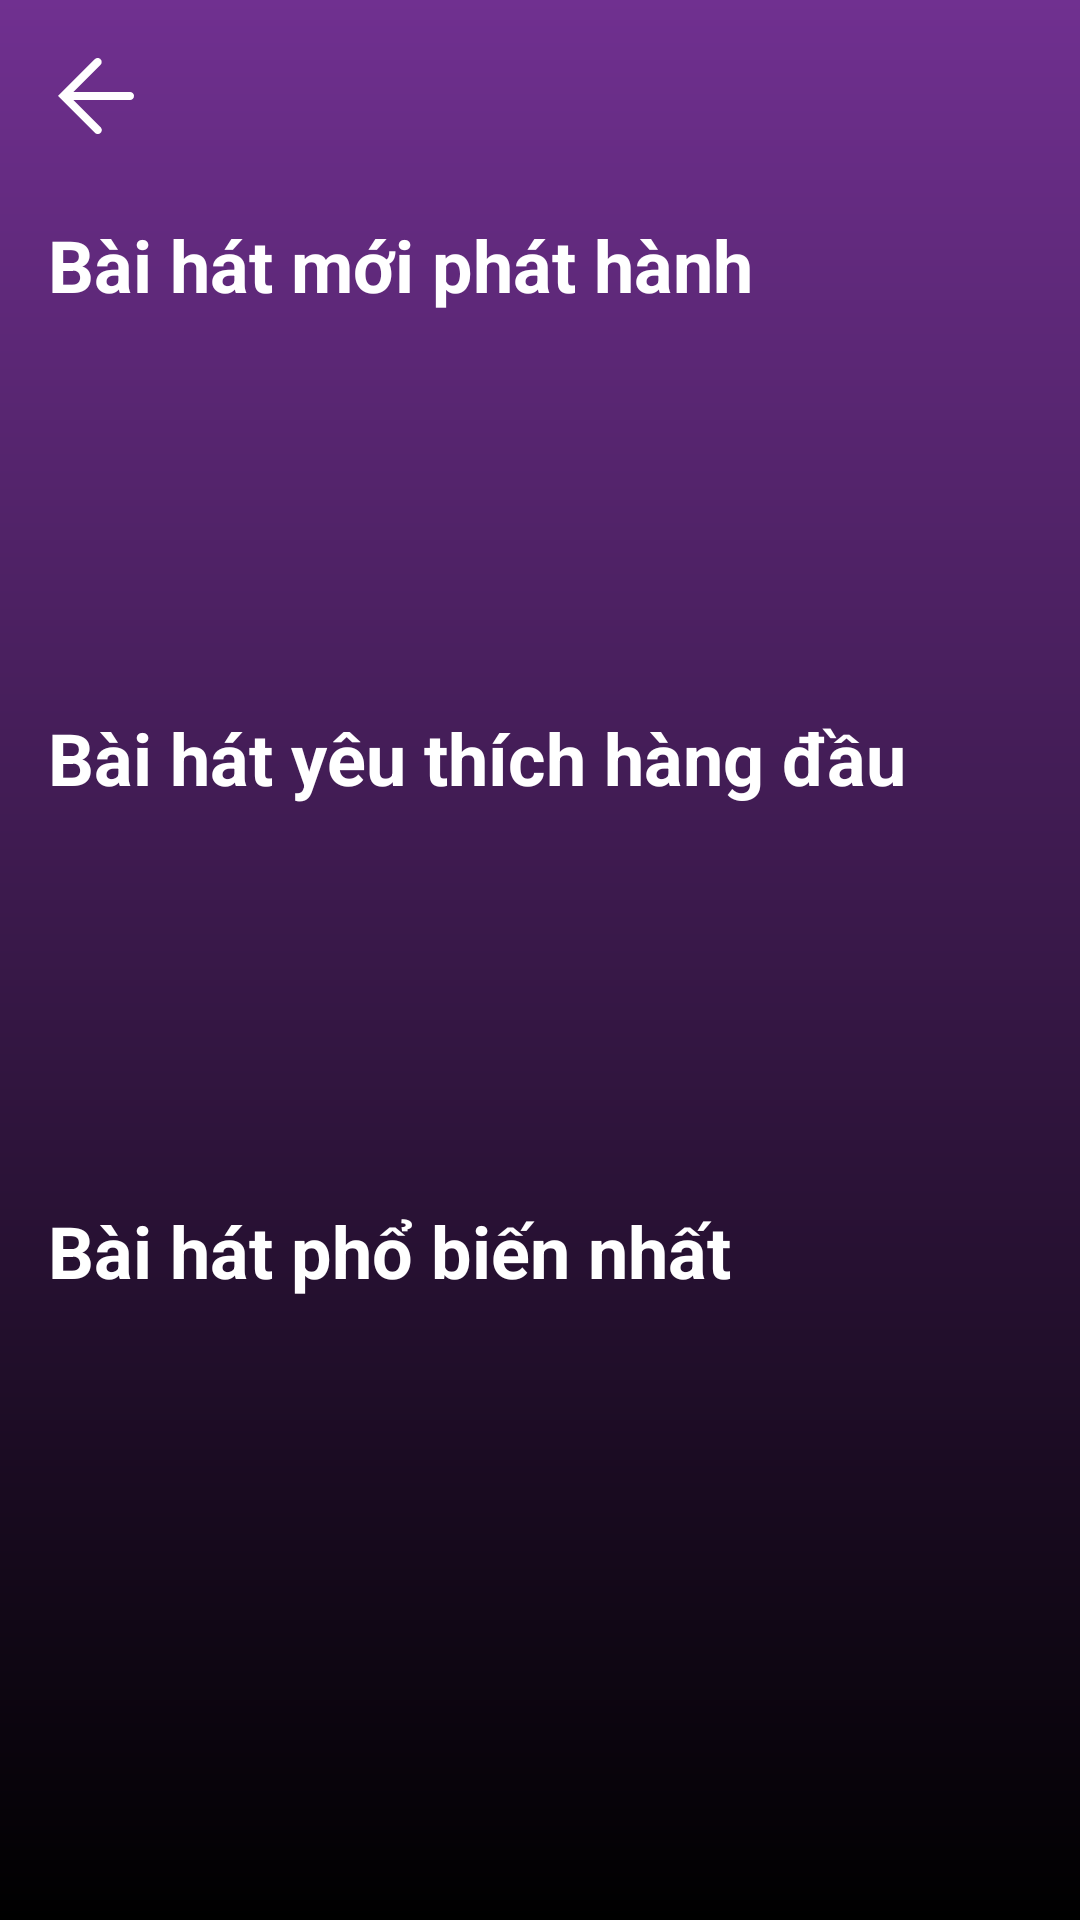

Locate icon controls on the screen. Image size 1080*1920, boxes as (x1, y1, x2, y2).
Quay lại: (58, 58, 134, 134)
